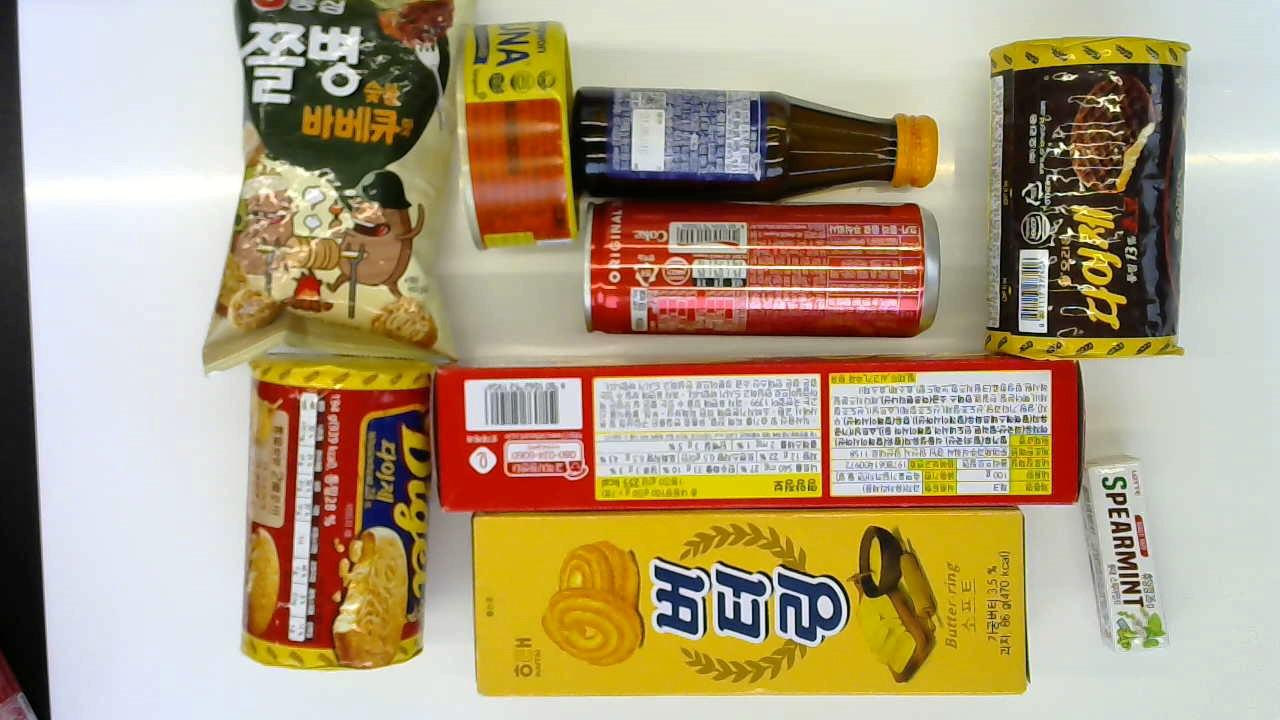buttering: (468, 506, 1031, 703)
coke: (579, 207, 935, 337)
diget_choco: (988, 33, 1185, 357)
diget_ori: (238, 352, 431, 676)
jjolbyung_ori: (199, 0, 457, 381)
spearmint: (1076, 457, 1172, 653)
tuna: (457, 17, 585, 253)
vita500: (570, 87, 941, 204)
zec: (430, 352, 1086, 507)
